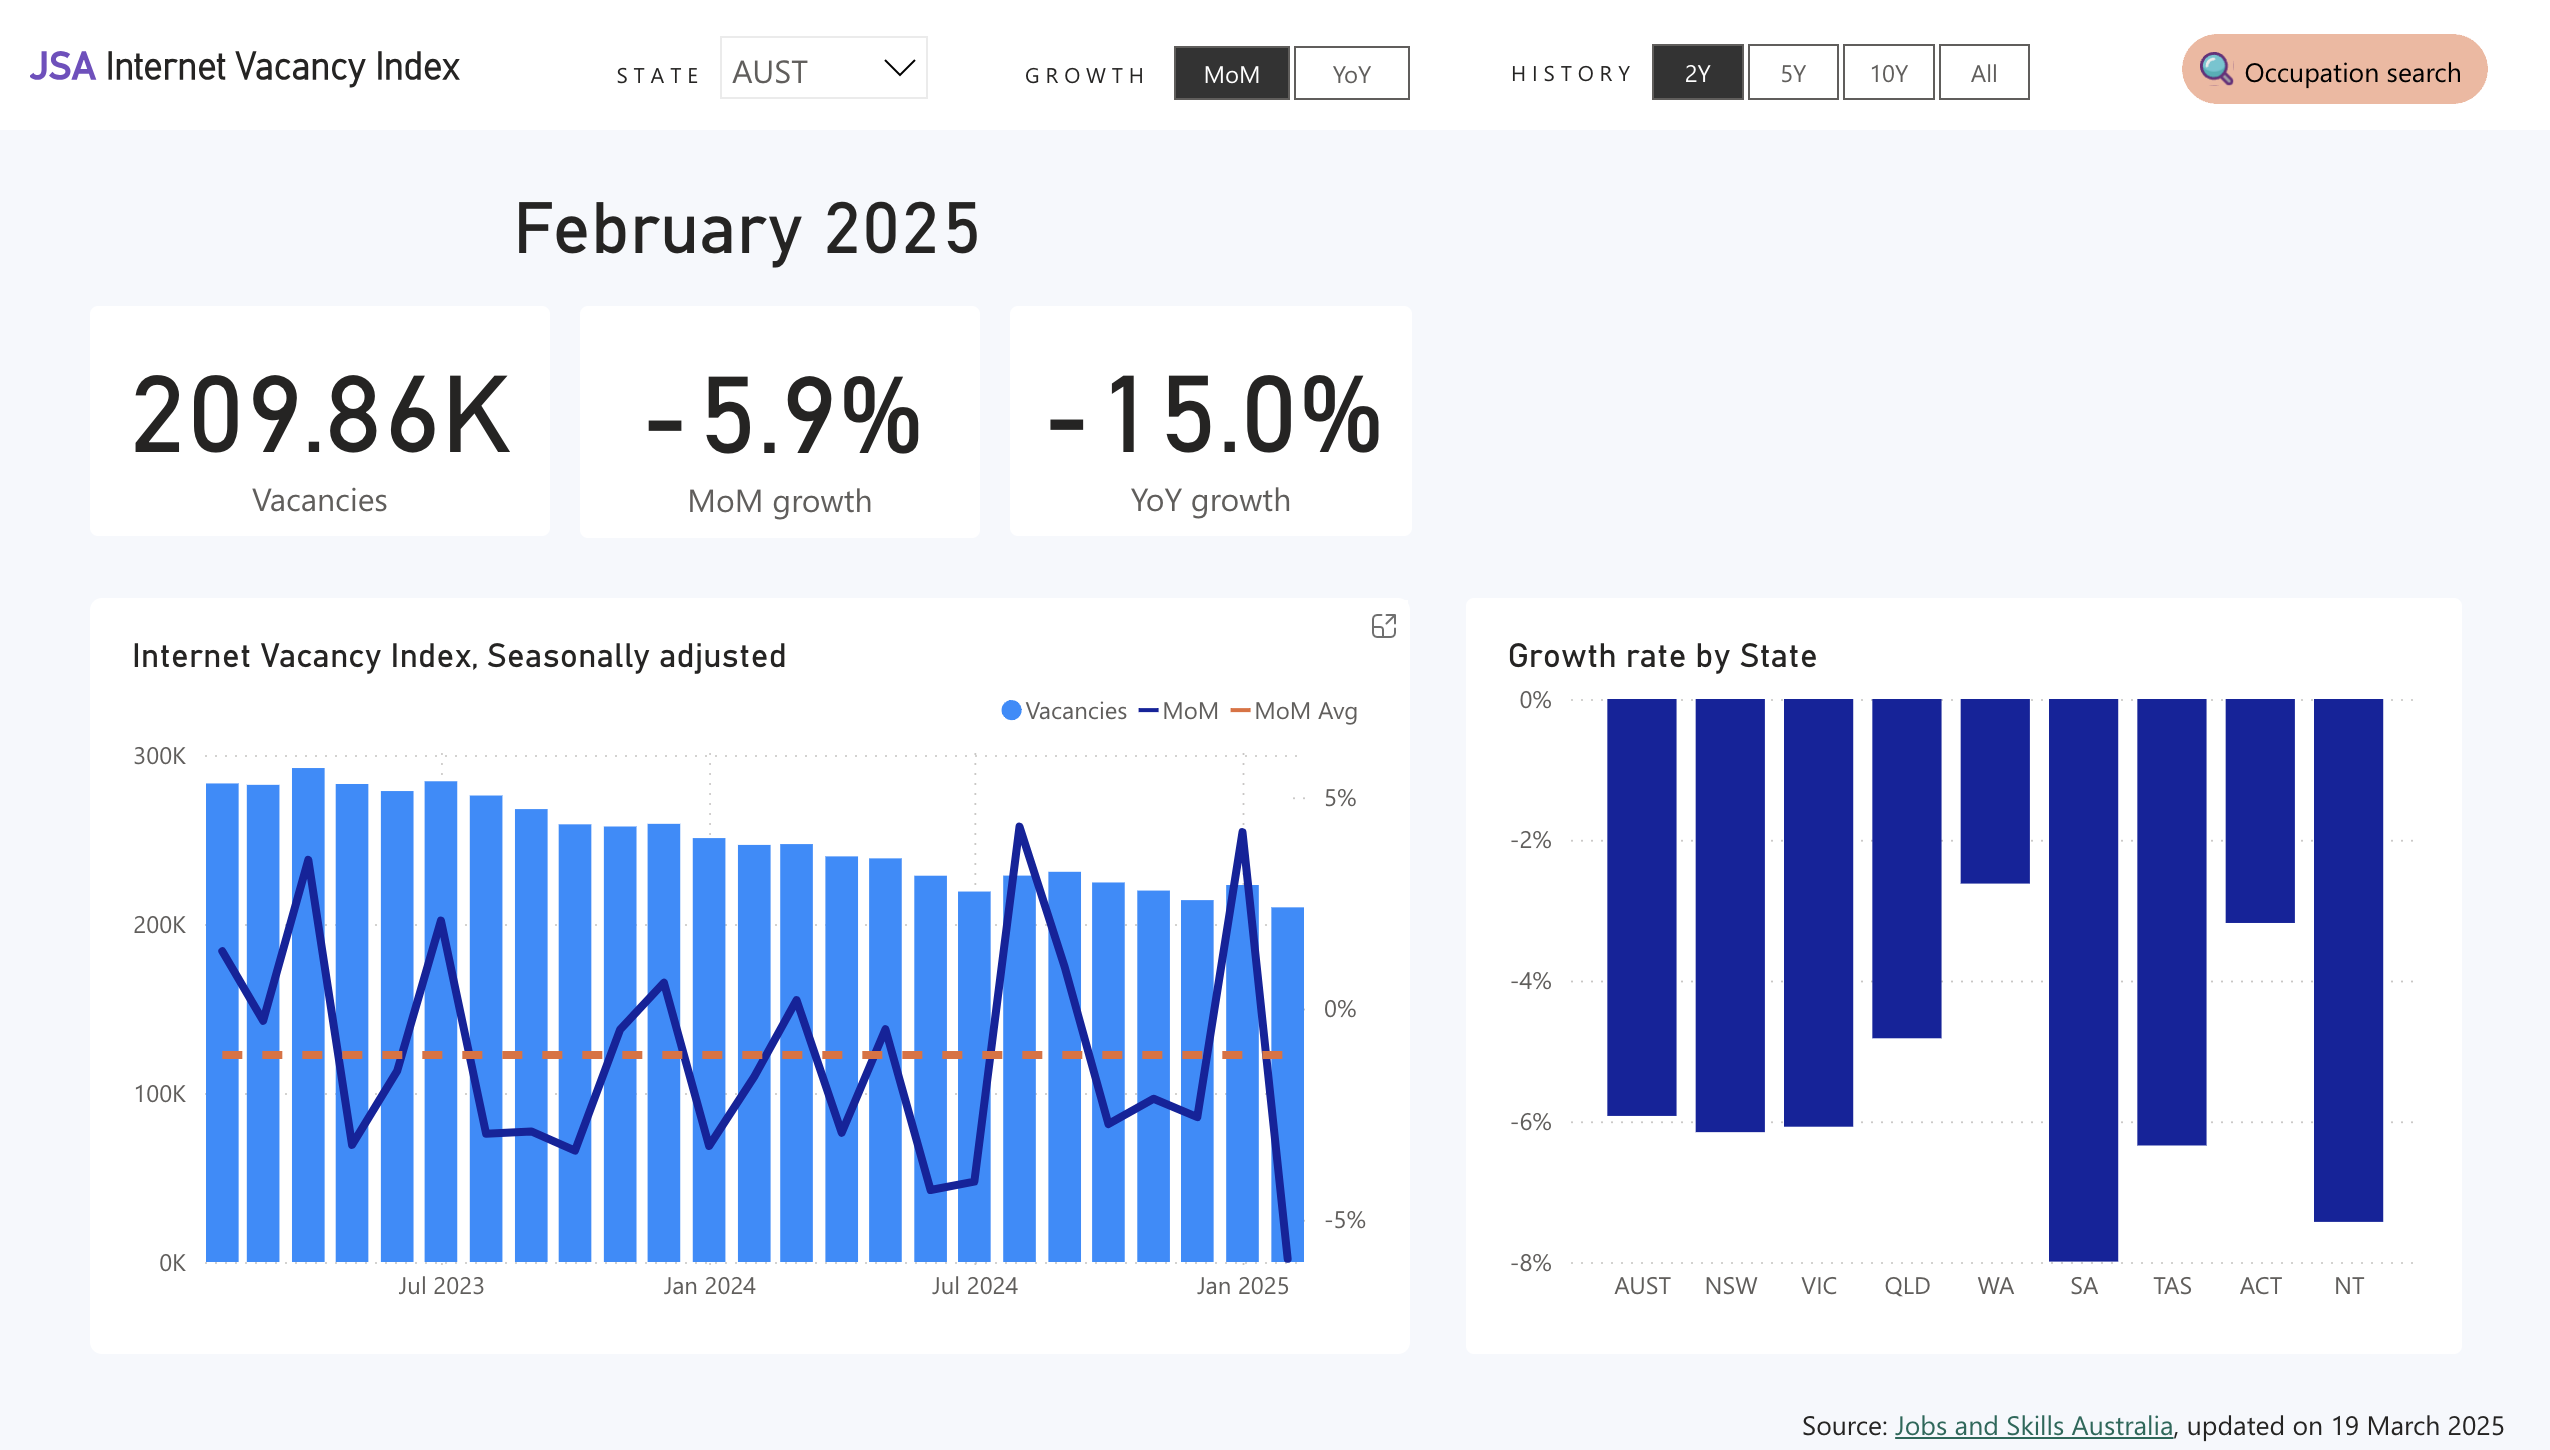

The dashboard page shown, as its layout file describes it:
{"tool":"powerbi","page":{"name":"Overall","canvas":[1280,720],"ordinal":0},"visuals":[{"type":"shape","box":[0,0,1280.6,59.4],"z":0},{"type":"lineClusteredColumnComboChart","title":"Internet Vacancy Index, Seasonally adjusted","fields":{"Y2":["vacancies_agg.MoM","vacancies_agg.MoM Avg"],"Category":["vacancies_agg.Date"],"Y":["Sum(vacancies_agg.Value)"]},"box":[44.8,292.8,660.6,378.2],"z":1000},{"type":"card","fields":{"Values":["Sum(vacancies_agg.Value)"]},"box":[44.9,146.9,230,115],"z":3000},{"type":"card","fields":{"Values":["vacancies_agg.MoM"]},"box":[290.2,146.9,200.1,115.7],"z":4000},{"type":"card","fields":{"Values":["vacancies_agg.YoY"]},"box":[505.5,146.9,200.1,115],"z":5000},{"type":"slicer","fields":{"Values":["changetype.changetype"]},"box":[565.8,14.6,158.4,31.3],"z":6000},{"type":"clusteredColumnChart","title":"Growth rate by State","fields":{"Y":["vacancies_agg.MoM"],"Category":["vacancies_agg.State"]},"box":[733.4,292.5,497.5,378],"z":7000},{"type":"card","fields":{"Values":["Max(vacancies_agg.Date)"]},"box":[221.5,76.2,305.9,56.7],"z":8000},{"type":"slicer","fields":{"Values":["history.history"]},"box":[805.3,14.4,229.2,31.3],"z":9000},{"type":"textbox","box":[10.4,12.5,245.9,39.6],"z":10000},{"type":"actionButton","title":"Occupation search","box":[1090.9,11.5,153.2,34.4],"z":12000},{"type":"textbox","box":[479.3,15.6,97.9,33.3],"z":13000},{"type":"textbox","box":[733.4,15.5,86.5,34.4],"z":14000},{"type":"textbox","box":[275.1,15.6,79.2,32.3],"z":15000},{"type":"textbox","box":[896.1,692.2,374.9,27.8],"z":16000},{"type":"slicer","title":"sadasd","fields":{"Values":["vacancies_agg.State"]},"box":[355,7,113.9,39.4],"z":16001}]}

Visuals, with their boxes in screenshot pixels (x1, y1, x2, y2), scaled from the page's 1280x720 canvas onto the 2550x1450 screenshot:
shape: pyautogui.locateOnScreen(0, 0, 2549, 120)
"Internet Vacancy Index, Seasonally adjusted" lineClusteredColumnComboChart: pyautogui.locateOnScreen(89, 590, 1405, 1351)
card - Sum(vacancies_agg.Value): pyautogui.locateOnScreen(89, 296, 548, 527)
card - vacancies_agg.MoM: pyautogui.locateOnScreen(578, 296, 977, 529)
card - vacancies_agg.YoY: pyautogui.locateOnScreen(1007, 296, 1406, 527)
slicer - changetype.changetype: pyautogui.locateOnScreen(1127, 29, 1443, 92)
"Growth rate by State" clusteredColumnChart: pyautogui.locateOnScreen(1461, 589, 2452, 1350)
card - Max(vacancies_agg.Date): pyautogui.locateOnScreen(441, 153, 1051, 268)
slicer - history.history: pyautogui.locateOnScreen(1604, 29, 2061, 92)
textbox: pyautogui.locateOnScreen(21, 25, 511, 105)
"Occupation search" actionButton: pyautogui.locateOnScreen(2173, 23, 2478, 92)
textbox: pyautogui.locateOnScreen(955, 31, 1150, 98)
textbox: pyautogui.locateOnScreen(1461, 31, 1633, 100)
textbox: pyautogui.locateOnScreen(548, 31, 706, 96)
textbox: pyautogui.locateOnScreen(1785, 1394, 2532, 1449)
"sadasd" slicer: pyautogui.locateOnScreen(707, 14, 934, 93)
